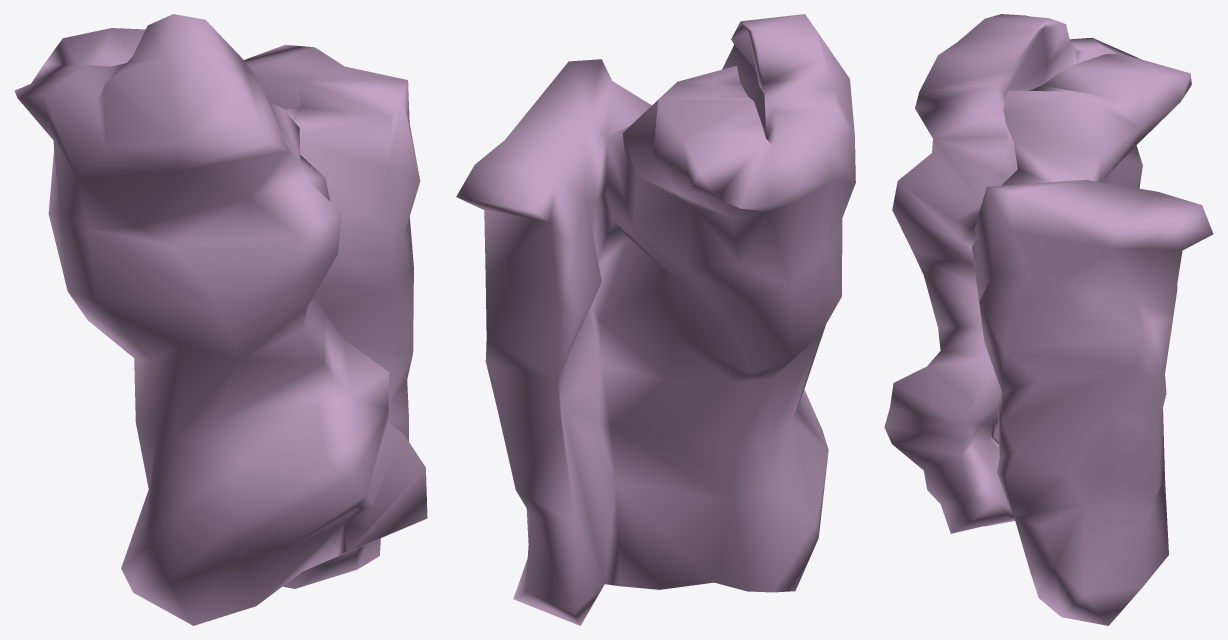
The picture shows the model from 3 angles, left to right: view 1: azimuth 30°, elevation 25°; view 2: azimuth 150°, elevation 25°; view 3: azimuth 270°, elevation 25°; orthographic projection. The views are drawn at different scales.
Parts seen in each view (by area): view 1: 右侧扣带回与扣带沟中后部; view 2: 右侧扣带回与扣带沟中后部; view 3: 右侧扣带回与扣带沟中后部.
Boxes of the visible parts, <box> form: 右侧扣带回与扣带沟中后部: <box>14,14,427,625</box>; 右侧扣带回与扣带沟中后部: <box>456,14,855,625</box>; 右侧扣带回与扣带沟中后部: <box>884,14,1213,625</box>.
Size of the model in its own units: 0.0266 by 0.0487 by 0.0279.
